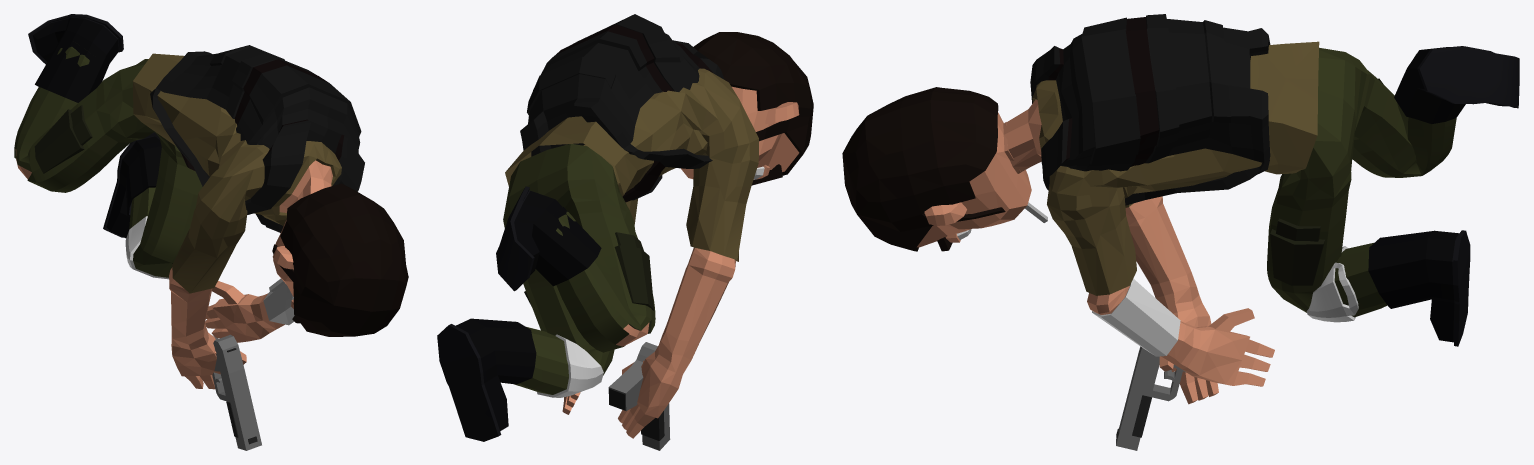
Rendered from frame_0012.obj.
3 renders of one model, left to right at view 1: azimuth 30°, elevation 25°; view 2: azimuth 150°, elevation 25°; view 3: azimuth 270°, elevation 25°, orthographic. The views are drawn at different scales.
Visible parts, largest first — view 1: Body, Gun; view 2: Body, Gun; view 3: Body, Gun.
Boxes of the visible parts, bbox=[...] form: Body: bbox=[14, 14, 408, 389]; Gun: bbox=[212, 334, 261, 450]; Body: bbox=[437, 14, 813, 441]; Gun: bbox=[608, 342, 670, 450]; Body: bbox=[842, 14, 1519, 404]; Gun: bbox=[1116, 346, 1186, 450].
Size of the model in its own units: 1.41 by 2.44 by 3.4.
